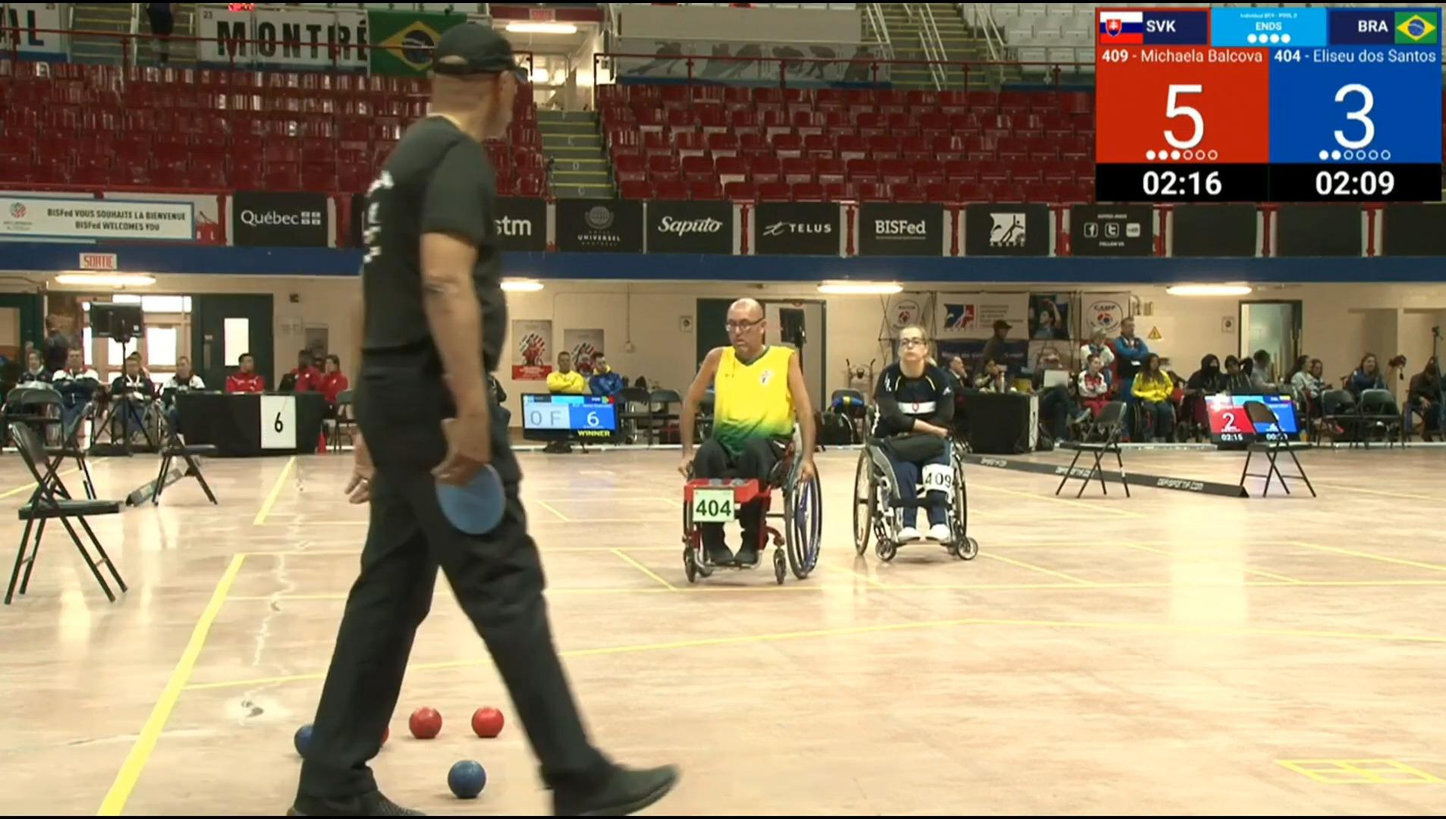blue_ball: (448, 760, 486, 795), (295, 724, 313, 756)
red_ball: (411, 707, 442, 740), (471, 707, 503, 736)
